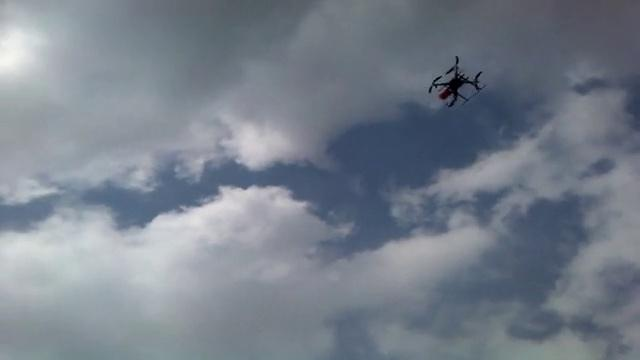drone: (425, 53, 487, 108)
